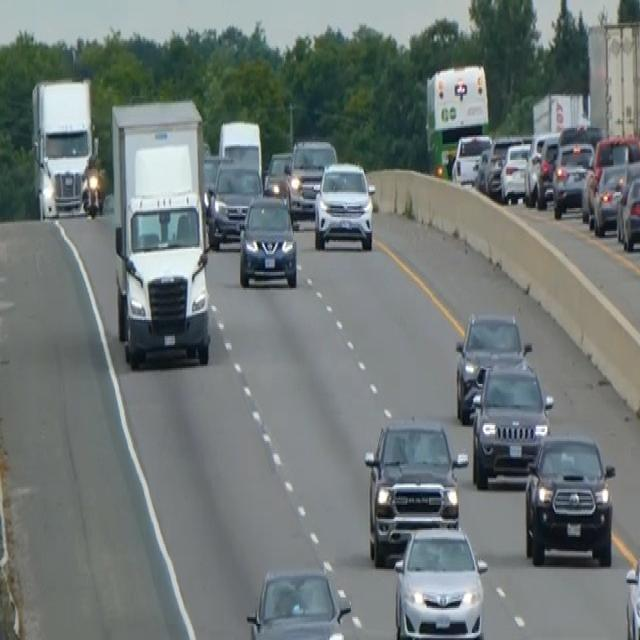car: (363, 414, 467, 566), (523, 430, 616, 567), (470, 354, 553, 489), (392, 523, 488, 638), (453, 309, 529, 422), (245, 564, 353, 638), (237, 192, 298, 288), (313, 158, 375, 251), (581, 132, 639, 230), (206, 160, 263, 249), (286, 135, 337, 222), (551, 137, 594, 219), (589, 160, 627, 235), (523, 132, 559, 208), (485, 134, 522, 198), (451, 130, 491, 185), (499, 140, 530, 202), (616, 170, 639, 250), (262, 149, 292, 201)
lorry: (109, 96, 212, 370), (29, 74, 95, 220)
motorcycle: (81, 163, 105, 217)
